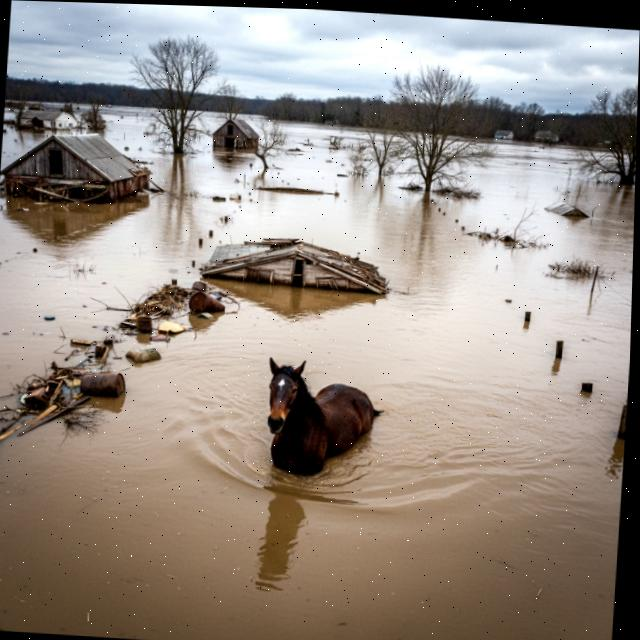horse: (245, 350, 395, 497)
